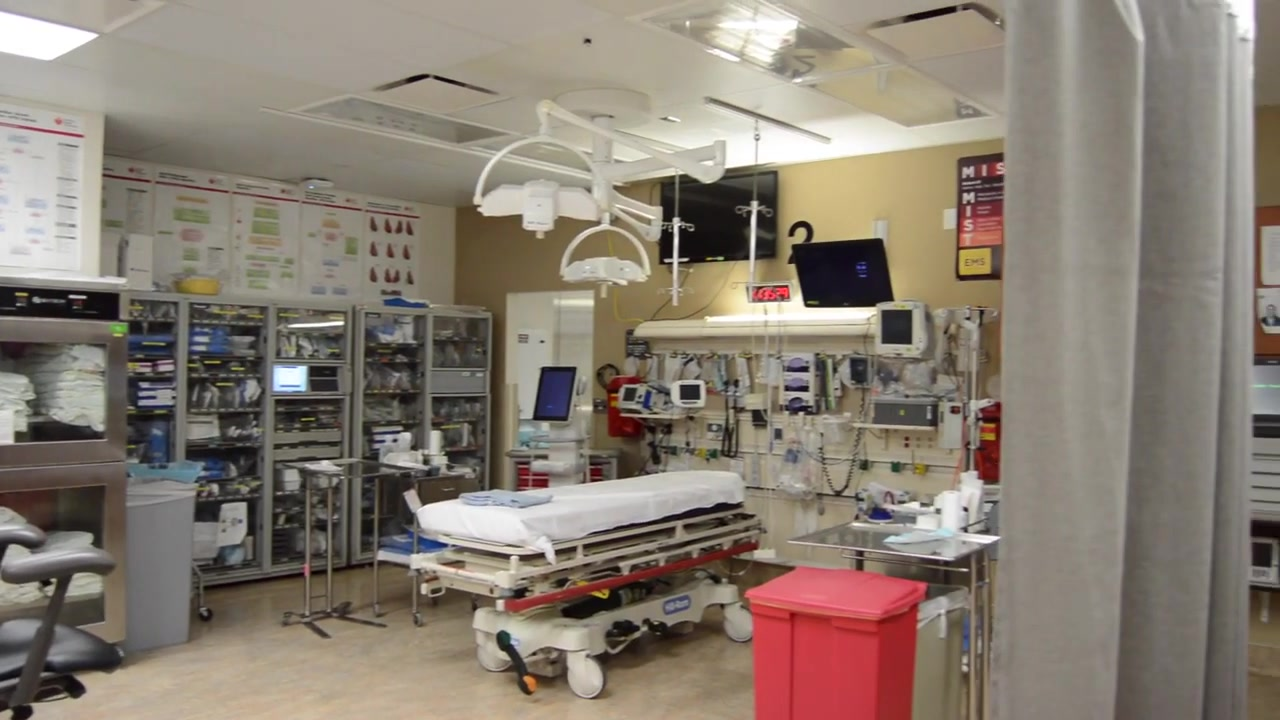TV: (655, 169, 779, 262)
bedside_monitor: (789, 238, 893, 312), (524, 362, 574, 421), (876, 303, 924, 356)
cabinet: (123, 289, 346, 581), (1, 273, 122, 640), (353, 302, 488, 565)
chair: (1, 525, 124, 720)
curtain: (984, 1, 1255, 720)
dispenser: (778, 352, 821, 417)
iv_pole: (958, 305, 998, 471), (729, 201, 774, 306), (659, 218, 697, 308)
operating_bed: (412, 471, 764, 698)
surgical_light: (484, 180, 591, 236), (568, 250, 643, 294)
utility_cart: (281, 458, 424, 637), (805, 510, 971, 571)
waste_bin: (744, 567, 927, 720), (122, 491, 197, 656), (912, 582, 968, 720)
